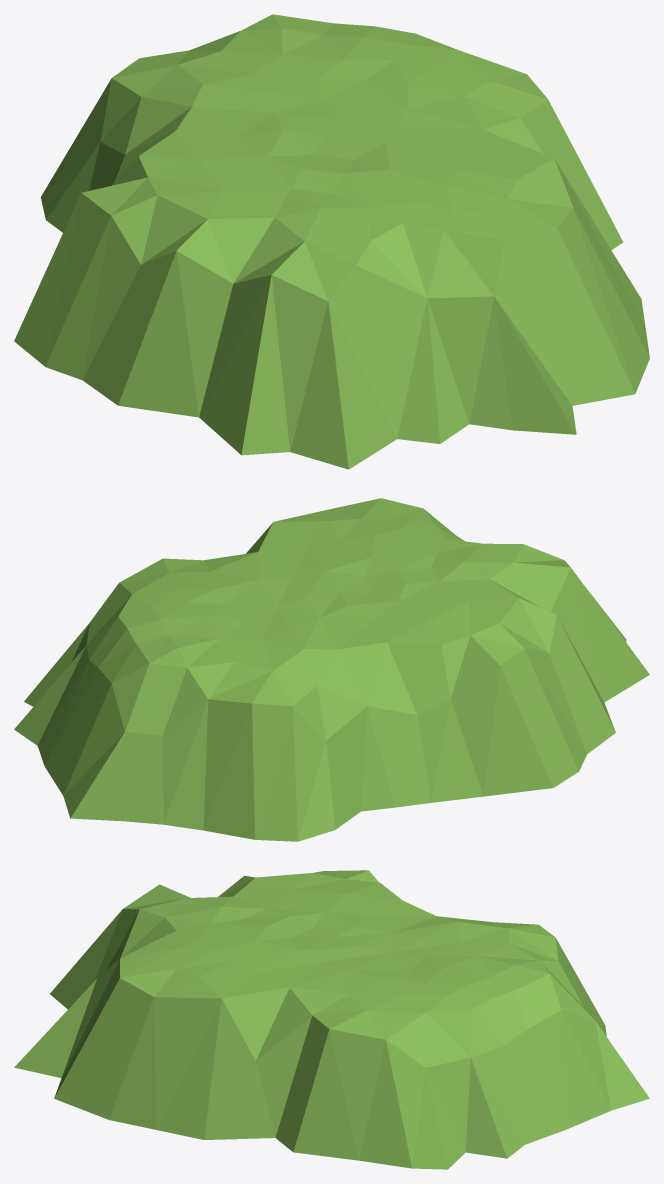
File: MT_Island_M_a_04_LOD.fbx
The picture shows the model from 3 angles, top to bottom: view 1: azimuth 30°, elevation 25°; view 2: azimuth 150°, elevation 25°; view 3: azimuth 270°, elevation 25°; orthographic projection. The views are drawn at different scales.
Parts seen in each view (by area): view 1: MT_Island_M_a_04_LOD0; view 2: MT_Island_M_a_04_LOD0; view 3: MT_Island_M_a_04_LOD0.
Boxes of the visible parts, bbox=[...] form: MT_Island_M_a_04_LOD0: bbox=[14, 14, 649, 469]; MT_Island_M_a_04_LOD0: bbox=[14, 498, 649, 841]; MT_Island_M_a_04_LOD0: bbox=[14, 870, 649, 1169].
Size of what is drawn, in the model's own units: 3611 by 910 by 4391.
